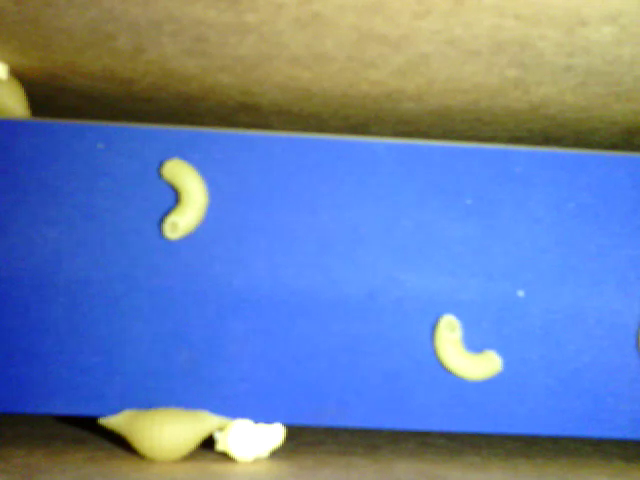elbow: (432, 312, 504, 384), (157, 157, 210, 237)
shell: (96, 407, 233, 466)
